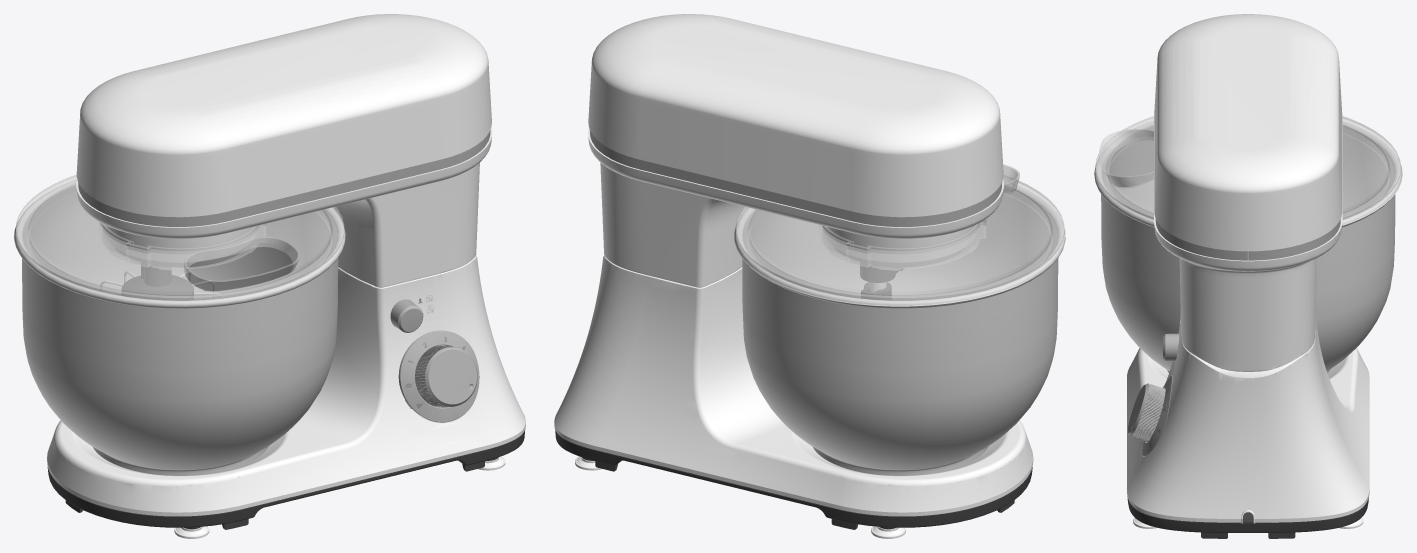
File: foodMixer_B0F653VZ3D_main_chromeWhitePaint.glb
The picture shows the model from 3 angles, left to right: view 1: azimuth 30°, elevation 25°; view 2: azimuth 150°, elevation 25°; view 3: azimuth 270°, elevation 25°; orthographic projection. The views are drawn at different scales.
Visible parts, largest first — view 1: obj1, 5L_1, YD_XX2_1_2__1, PRT0024_1, YD_XX2_2_5_1, PRT0008, BREP_4_1, MIANBAN_1, PRT0007_1, ANNIU_1, PRT0075_1; view 2: obj1, 5L_1, YD_XX2_1_2__1, PRT0024_1, YD_XX2_2_5_1, PRT0008, PRT0007_1; view 3: obj1, YD_XX2_1_2__1, 5L_1, PRT0024_1, YD_XX2_2_5_1, PRT0008, BREP_4_1, MIANBAN_1, ANNIU_1.
Part boxes in pixels (x1,y1,x2,y2): obj1: (76, 14, 492, 301); 5L_1: (14, 180, 345, 475); YD_XX2_1_2__1: (47, 256, 525, 516); PRT0024_1: (16, 175, 344, 300); YD_XX2_2_5_1: (47, 406, 524, 529); PRT0008: (78, 131, 490, 226); BREP_4_1: (415, 345, 477, 407); MIANBAN_1: (398, 330, 479, 422); PRT0007_1: (122, 253, 238, 295); ANNIU_1: (390, 299, 423, 332); PRT0075_1: (174, 456, 505, 538); obj1: (588, 14, 1003, 287); 5L_1: (734, 180, 1065, 475); YD_XX2_1_2__1: (554, 255, 1033, 516); PRT0024_1: (736, 164, 1064, 300); YD_XX2_2_5_1: (555, 430, 1032, 529); PRT0008: (590, 131, 1001, 226); PRT0007_1: (860, 265, 903, 295); obj1: (1154, 14, 1342, 371); YD_XX2_1_2__1: (1127, 314, 1369, 523); 5L_1: (1094, 121, 1402, 372); PRT0024_1: (1095, 116, 1401, 219); YD_XX2_2_5_1: (1127, 496, 1368, 538); PRT0008: (1155, 219, 1340, 260); BREP_4_1: (1128, 383, 1165, 442); MIANBAN_1: (1142, 376, 1172, 456); ANNIU_1: (1162, 333, 1179, 361).
Bounding box in the file's own units: 0.3547 × 0.2942 × 0.2246.
4 materials, 1 textured.
